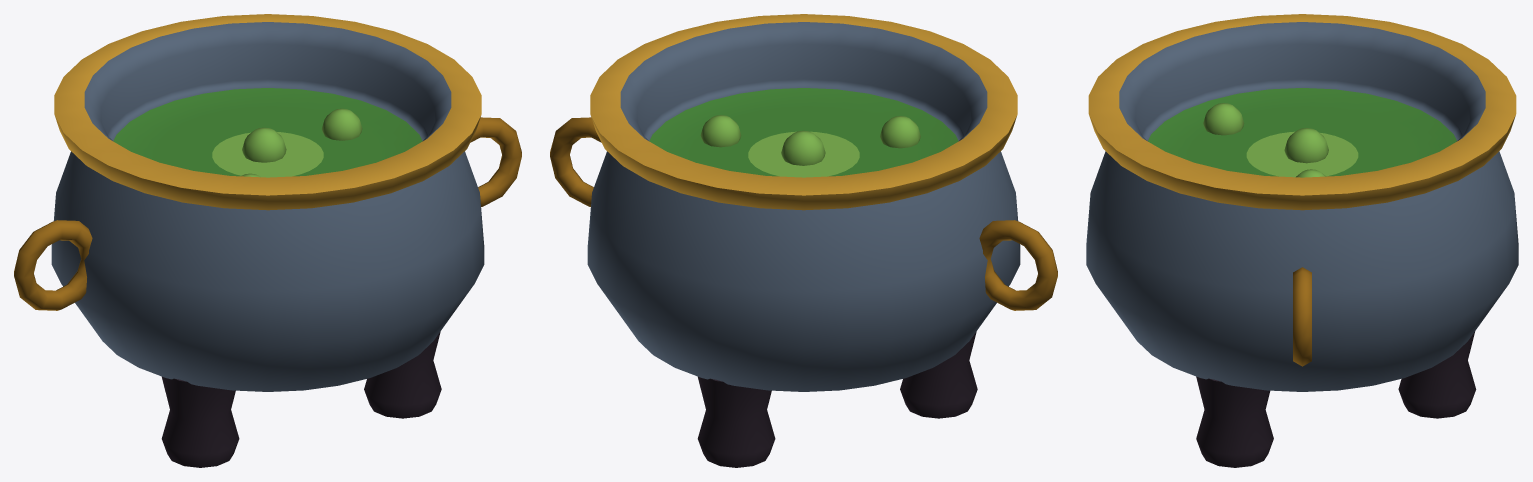
Rendered from Cauldron_07.glb.
The picture shows the model from 3 angles, left to right: view 1: azimuth 30°, elevation 25°; view 2: azimuth 150°, elevation 25°; view 3: azimuth 270°, elevation 25°; orthographic projection.
Visible parts, largest first — view 1: Cauldron_07; view 2: Cauldron_07; view 3: Cauldron_07.
Part boxes in pixels (box(x1,y1,x2,y2)): Cauldron_07: box(14, 14, 521, 467); Cauldron_07: box(550, 14, 1057, 467); Cauldron_07: box(1086, 14, 1518, 467).
Bounding box in the file's own units: 4.21 × 2.41 × 3.11.
